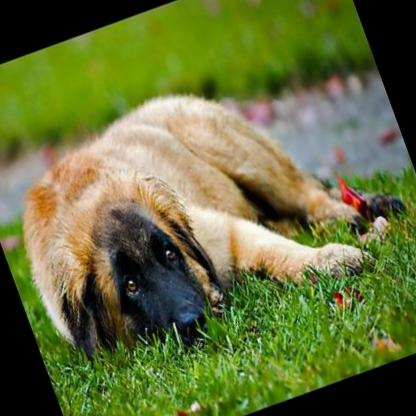Leonberg: (0, 26, 416, 387)
